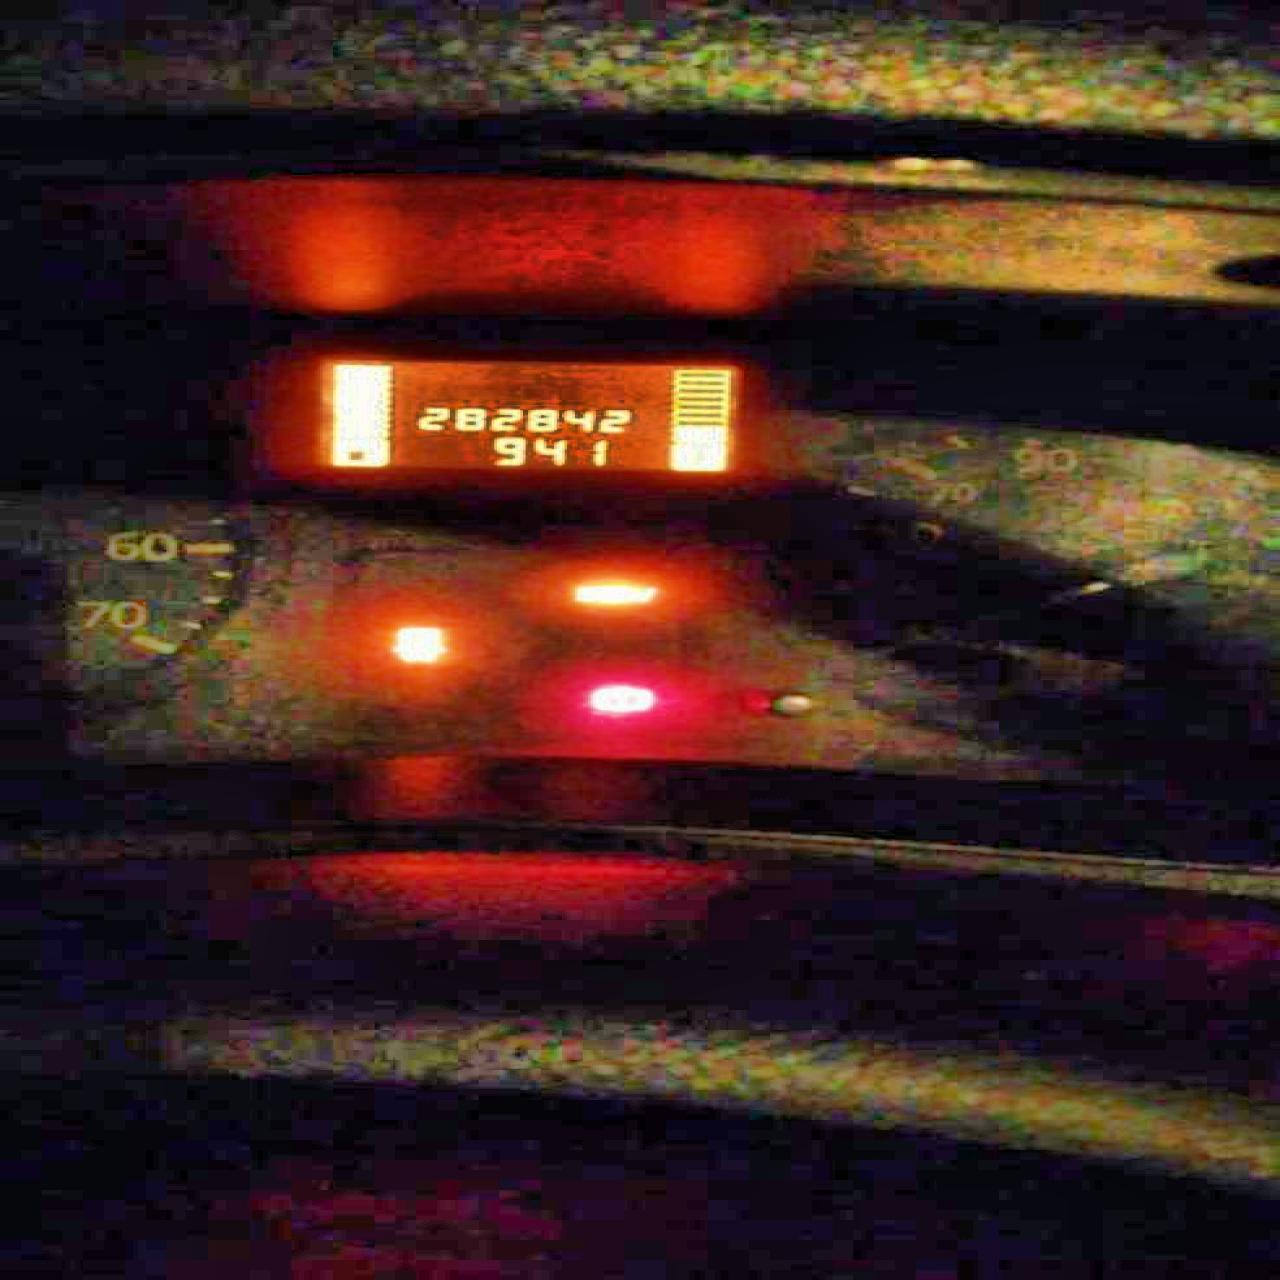1: (585, 437, 608, 468)
2: (411, 406, 450, 431), (593, 408, 632, 433), (486, 407, 520, 431)
4: (529, 436, 565, 468), (559, 408, 593, 433)
8: (450, 406, 486, 431), (523, 407, 557, 431)
9: (486, 435, 525, 467)
odometer: (301, 352, 749, 478)
